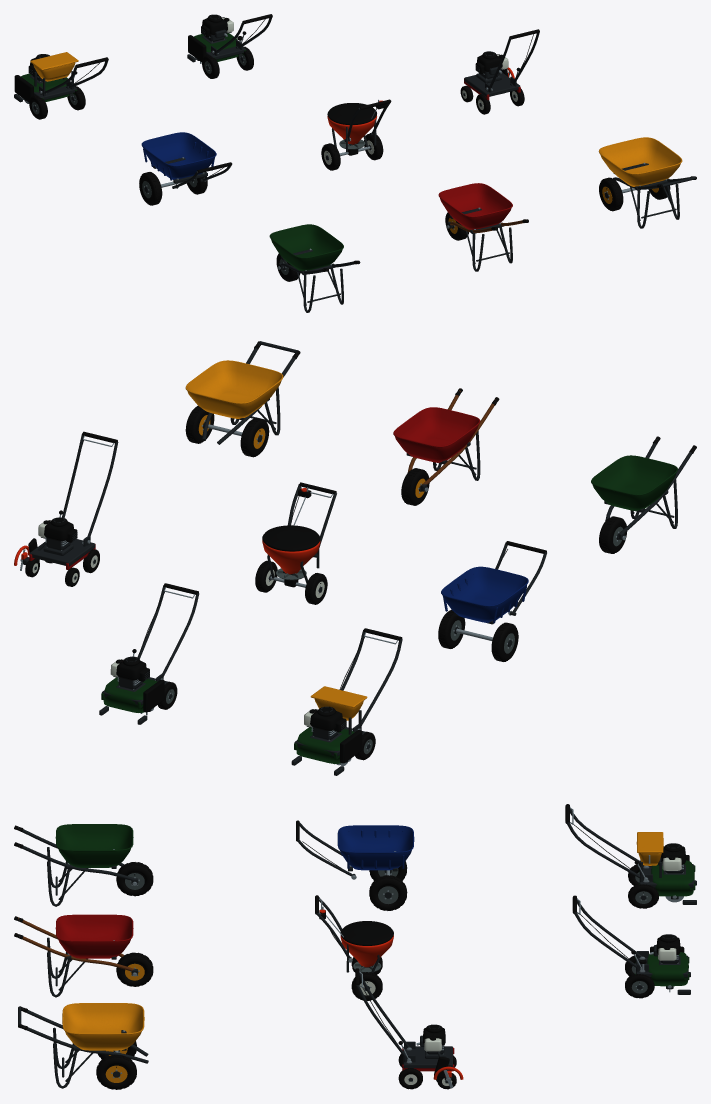
File: 31_PushMachines.gltf
The picture shows the model from 3 angles, top to bottom: view 1: azimuth 30°, elevation 25°; view 2: azimuth 150°, elevation 25°; view 3: azimuth 270°, elevation 25°; orthographic projection. The views are drawn at different scales.
Parts seen in each view (by area): view 1: DualWheelbarrow__Body, SingleWheelbarrow__Body, SingleWheelbarrowFlatFree__Body, PolyCart__Body, SlitOverseeder__Body, PowerRakeDethatcher__Body, WalkBehindEdger__Body, BroadcastSpreader__Body, DualWheelbarrow__Wheel_-1, PolyCart__Wheel_-1; view 2: DualWheelbarrow__Body, SlitOverseeder__Body, SingleWheelbarrow__Body, SingleWheelbarrowFlatFree__Body, PolyCart__Body, PowerRakeDethatcher__Body, WalkBehindEdger__Body, BroadcastSpreader__Body, DualWheelbarrow__Wheel_-1, PolyCart__Wheel_-1, SingleWheelbarrowFlatFree__Wheel_Front, SingleWheelbarrow__Wheel_Front (+2 smaller); view 3: DualWheelbarrow__Body, SingleWheelbarrowFlatFree__Body, SingleWheelbarrow__Body, SlitOverseeder__Body, PolyCart__Body, PowerRakeDethatcher__Body, WalkBehindEdger__Body, BroadcastSpreader__Body, DualWheelbarrow, PolyCart, SingleWheelbarrow__Wheel_Front, SingleWheelbarrowFlatFree__Wheel_Front (+3 smaller).
Part boxes in pixels (left/top/right/bottom): DualWheelbarrow__Body: left=598, top=137, right=696, bottom=228; SingleWheelbarrow__Body: left=269, top=224, right=360, bottom=312; SingleWheelbarrowFlatFree__Body: left=438, top=183, right=528, bottom=271; PolyCart__Body: left=141, top=132, right=232, bottom=188; SlitOverseeder__Body: left=14, top=52, right=108, bottom=102; PowerRakeDethatcher__Body: left=187, top=14, right=272, bottom=62; WalkBehindEdger__Body: left=464, top=29, right=539, bottom=100; BroadcastSpreader__Body: left=327, top=99, right=391, bottom=155; DualWheelbarrow__Wheel_-1: left=599, top=177, right=623, bottom=211; PolyCart__Wheel_-1: left=139, top=172, right=162, bottom=205; DualWheelbarrow__Body: left=185, top=341, right=300, bottom=444; SlitOverseeder__Body: left=291, top=628, right=402, bottom=775; SingleWheelbarrow__Body: left=591, top=436, right=696, bottom=540; SingleWheelbarrowFlatFree__Body: left=393, top=388, right=499, bottom=491; PolyCart__Body: left=441, top=541, right=546, bottom=640; PowerRakeDethatcher__Body: left=99, top=583, right=199, bottom=724; WalkBehindEdger__Body: left=14, top=431, right=118, bottom=569; BroadcastSpreader__Body: left=262, top=482, right=336, bottom=587; DualWheelbarrow__Wheel_-1: left=240, top=417, right=269, bottom=457; PolyCart__Wheel_-1: left=491, top=622, right=518, bottom=661; SingleWheelbarrowFlatFree__Wheel_Front: left=401, top=468, right=429, bottom=505; SingleWheelbarrow__Wheel_Front: left=599, top=516, right=627, bottom=553; DualWheelbarrow__Body: left=18, top=1003, right=148, bottom=1088; SingleWheelbarrowFlatFree__Body: left=14, top=914, right=137, bottom=997; SingleWheelbarrow__Body: left=14, top=824, right=137, bottom=906; SlitOverseeder__Body: left=565, top=804, right=696, bottom=904; PolyCart__Body: left=296, top=820, right=414, bottom=879; PowerRakeDethatcher__Body: left=572, top=895, right=690, bottom=994; WalkBehindEdger__Body: left=355, top=968, right=463, bottom=1080; BroadcastSpreader__Body: left=315, top=895, right=393, bottom=972; DualWheelbarrow: left=96, top=1054, right=136, bottom=1089; PolyCart: left=369, top=875, right=407, bottom=910; SingleWheelbarrow__Wheel_Front: left=116, top=862, right=153, bottom=896; SingleWheelbarrowFlatFree__Wheel_Front: left=116, top=952, right=153, bottom=986.
Bounding box in the file's own units: 5.33 × 1.22 × 7.27.
1 material, 1 textured.
